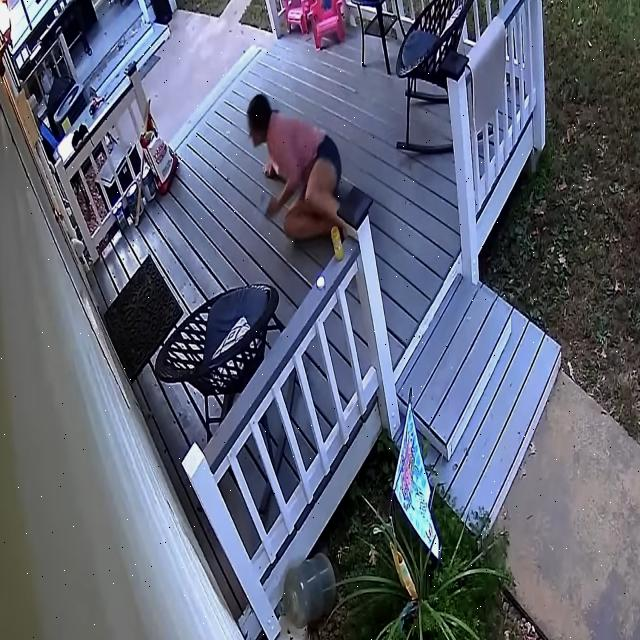fallen: (247, 94, 344, 240)
